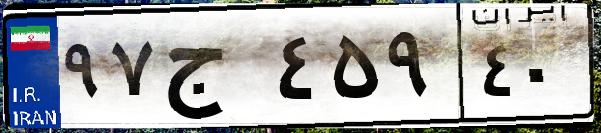0: (525, 38, 570, 115)
4: (270, 28, 330, 110), (475, 38, 525, 113)
5: (330, 28, 385, 110)
7: (110, 28, 158, 98)
9: (385, 28, 445, 110), (57, 26, 110, 100)
ج: (158, 20, 270, 120)
